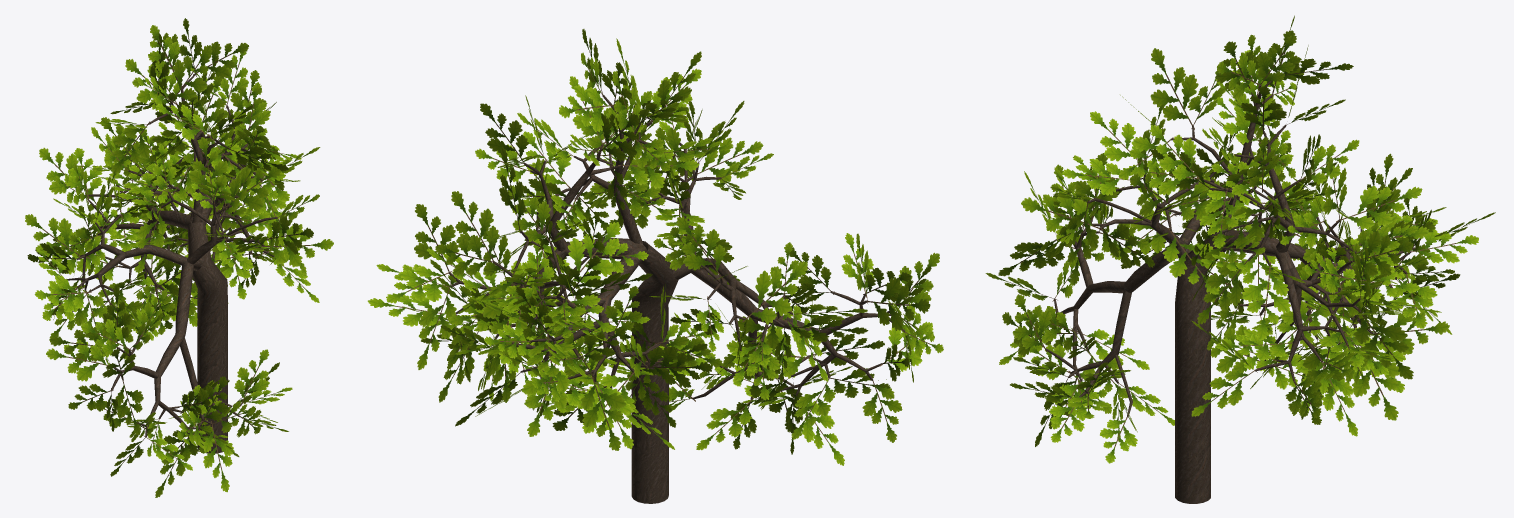
The model's file is tree_oak_old.glb.
3 renders of one model, left to right at view 1: azimuth 30°, elevation 25°; view 2: azimuth 150°, elevation 25°; view 3: azimuth 270°, elevation 25°, orthographic. The views are drawn at different scales.
Parts seen in each view (by area): view 1: Trunk, Leaf#85, Trunk#6, Leaf#183, Leaf#240, Leaf#210, Leaf#233, Leaf#81, Leaf#244, Leaf#166, Leaf#169, Leaf#218 (+59 smaller); view 2: Trunk, Leaf#212, Leaf#135, Leaf#146, Leaf#204, Leaf#159, Leaf#179, Leaf#75, Leaf#58, Leaf#59, Leaf#57, Leaf#35 (+42 smaller); view 3: Trunk, Leaf#102, Leaf#59, Leaf#41, Leaf#245, Leaf#29, Leaf#231, Leaf#128, Leaf#44, Leaf#37, Leaf#93, Leaf#76 (+52 smaller).
Boxes of the visible parts, box(x1,y1,x2,y2) form: Trunk: box(188, 222, 227, 435); Leaf#85: box(169, 45, 212, 103); Trunk#6: box(175, 258, 202, 335); Leaf#183: box(46, 339, 116, 381); Leaf#240: box(189, 137, 228, 203); Leaf#210: box(25, 214, 79, 262); Leaf#233: box(223, 165, 281, 211); Leaf#81: box(111, 121, 151, 173); Leaf#244: box(261, 224, 333, 267); Leaf#166: box(203, 421, 234, 492); Leaf#169: box(234, 349, 269, 406); Leaf#218: box(34, 275, 91, 312); Trunk: box(631, 241, 678, 482); Leaf#212: box(742, 261, 807, 324); Leaf#135: box(580, 377, 625, 450); Leaf#146: box(565, 222, 620, 289); Leaf#204: box(676, 216, 726, 279); Leaf#159: box(522, 364, 569, 436); Leaf#179: box(864, 277, 930, 330); Leaf#75: box(451, 191, 499, 265); Leaf#58: box(414, 204, 459, 275); Leaf#59: box(417, 284, 456, 369); Leaf#57: box(386, 266, 452, 303); Leaf#35: box(480, 103, 528, 166); Trunk: box(1175, 232, 1226, 482); Leaf#102: box(1150, 48, 1198, 129); Leaf#59: box(1353, 309, 1413, 379); Leaf#41: box(1242, 262, 1290, 340); Leaf#245: box(1021, 188, 1103, 243); Leaf#29: box(1336, 186, 1422, 229); Leaf#231: box(1162, 228, 1219, 294); Leaf#128: box(1348, 346, 1399, 420); Leaf#44: box(1197, 258, 1249, 324); Leaf#37: box(1204, 203, 1272, 260); Leaf#93: box(1150, 125, 1199, 180); Leaf#76: box(1349, 230, 1413, 276).
Size of the model in its own units: 10.46 by 11.19 by 10.91.
Materials: 3 (3 with a texture image).
